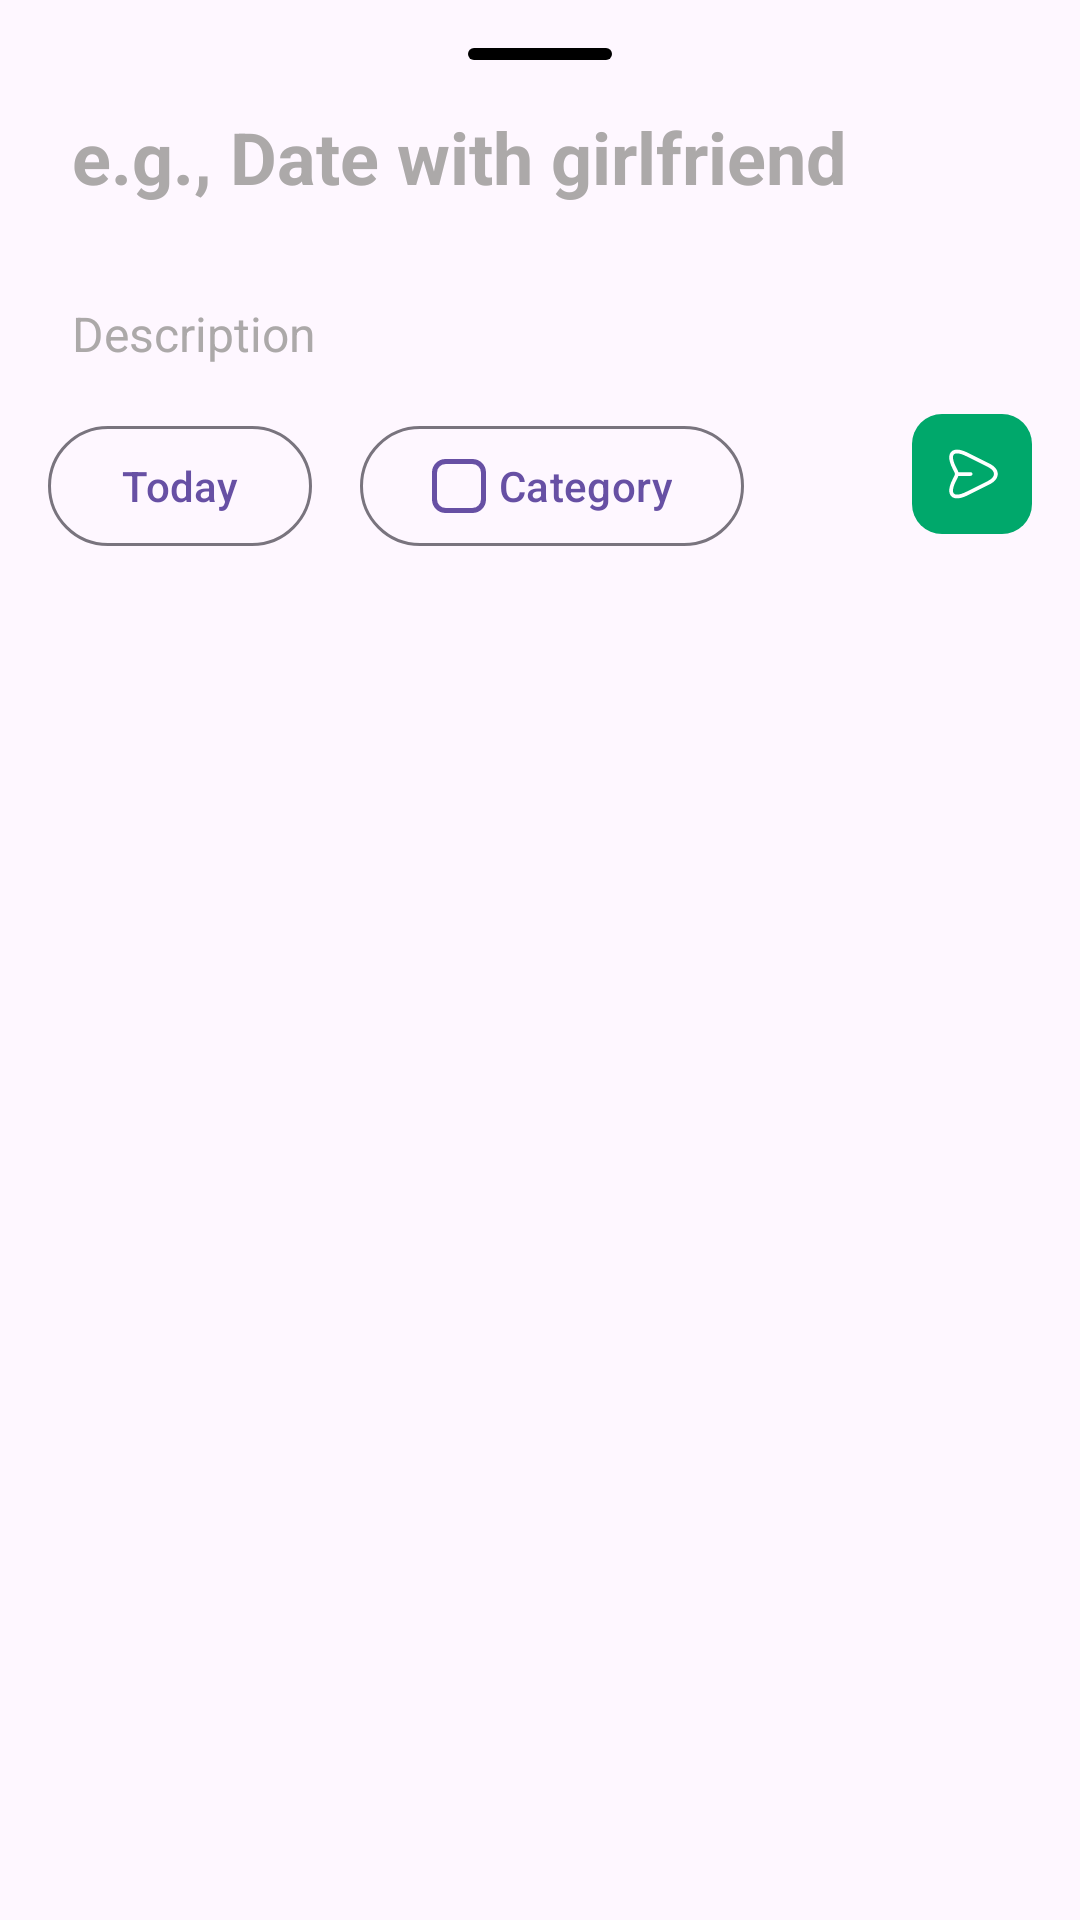

Named icons in this screenshot (1080×1920) and their centers, (x=x, y=y):
confirm: (x=972, y=474)
